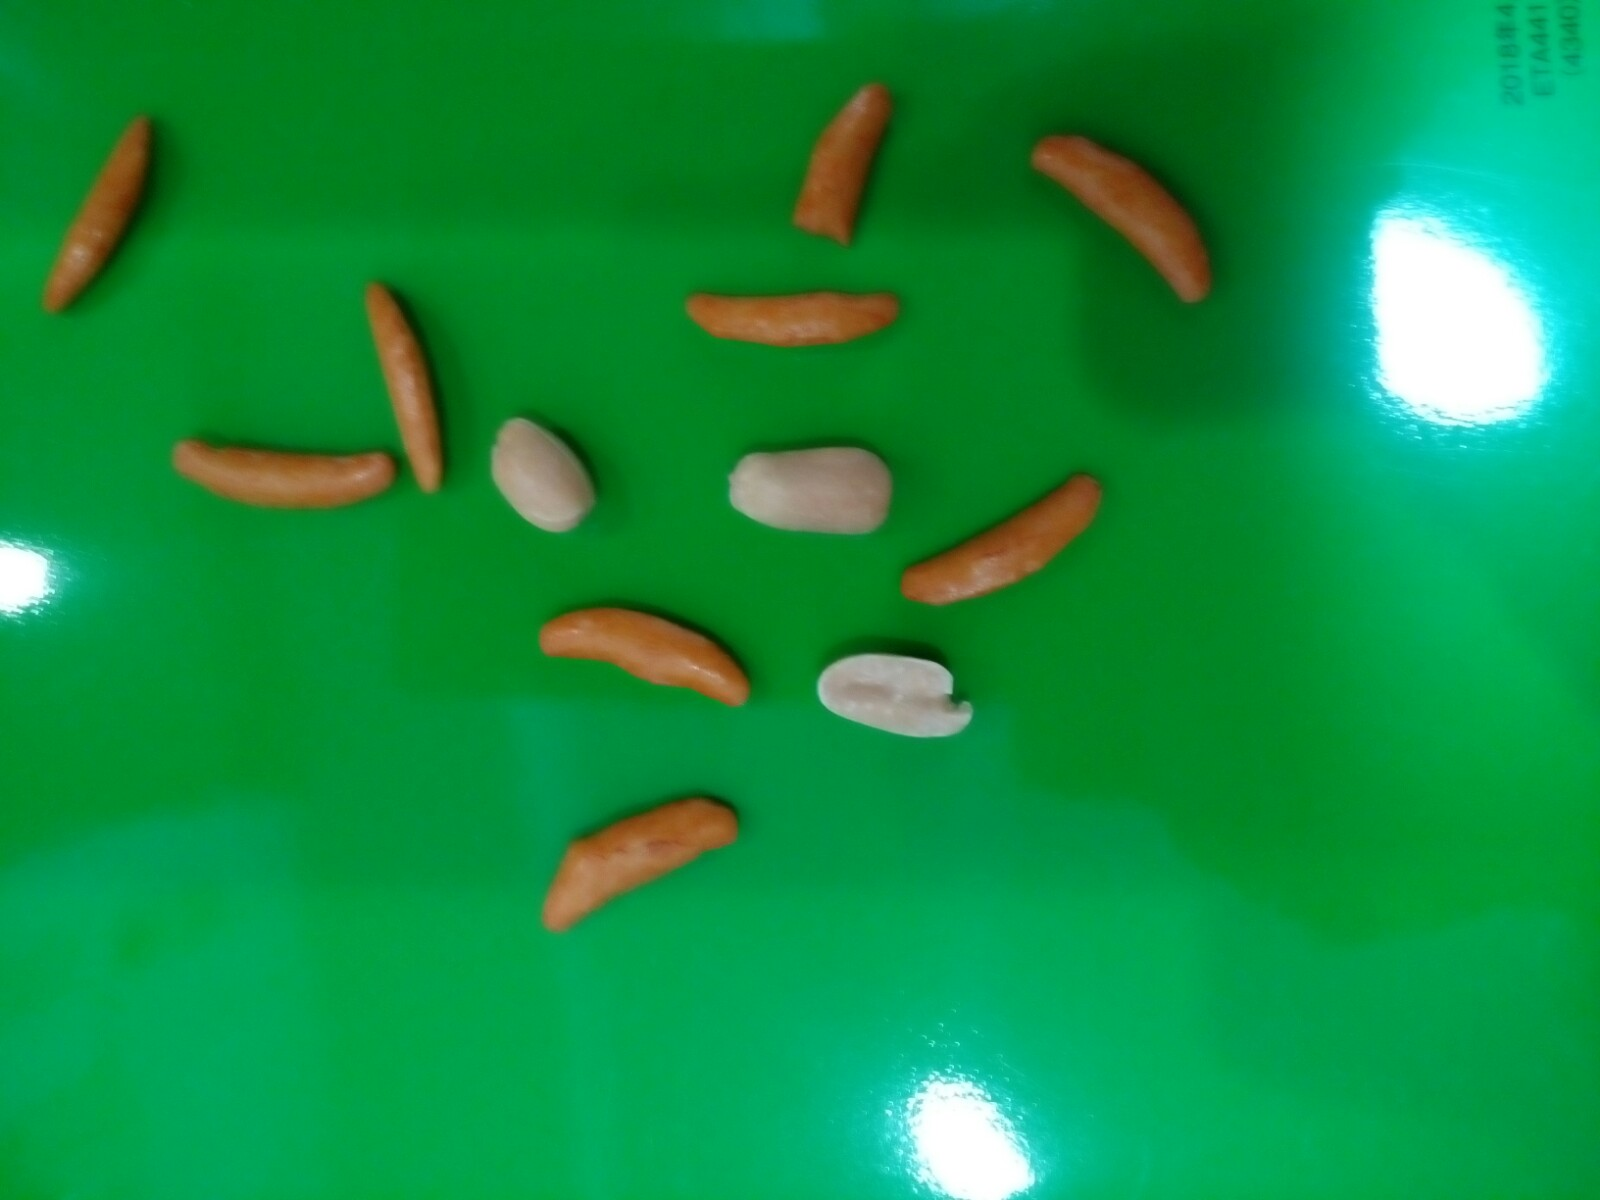peanut: (716, 434, 903, 552), (808, 647, 991, 749), (488, 403, 605, 539)
